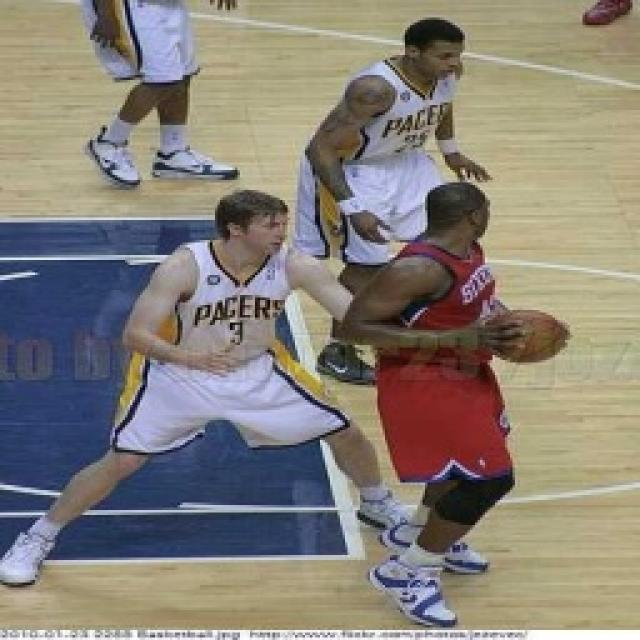rim: (486, 306, 562, 368)
